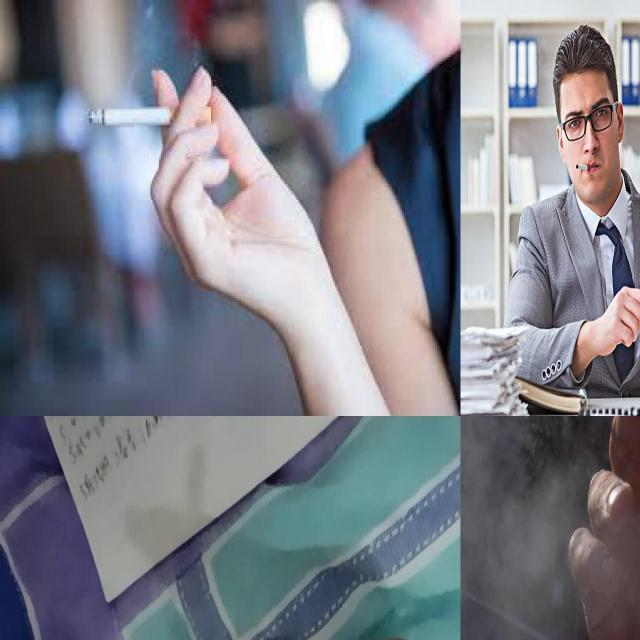smoke: (89, 106, 338, 318), (573, 153, 593, 178)
